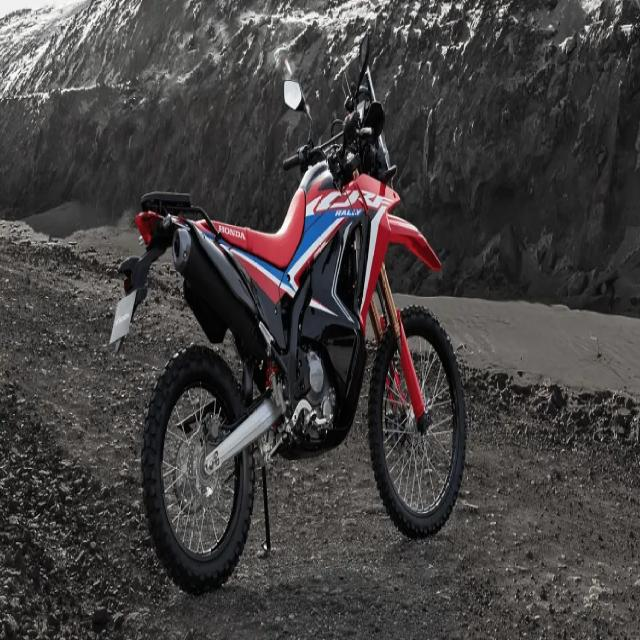Bike: (109, 38, 470, 597)
